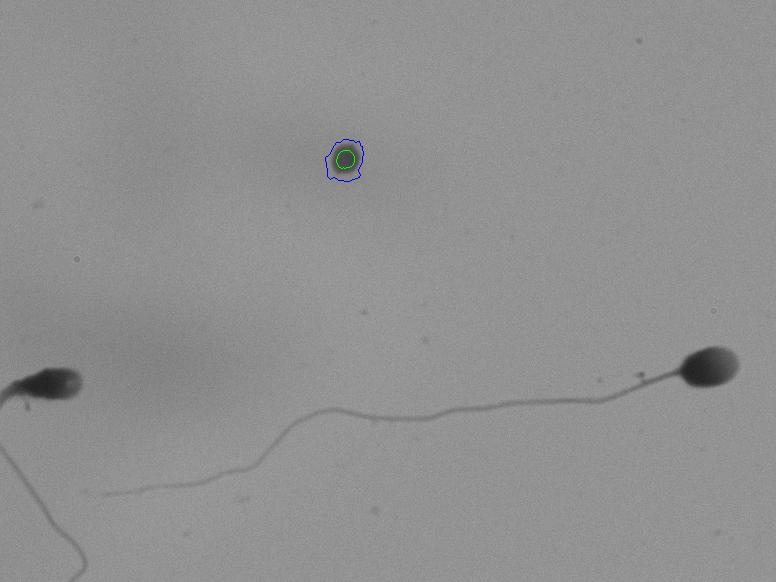Normal: (141, 307, 755, 518)
